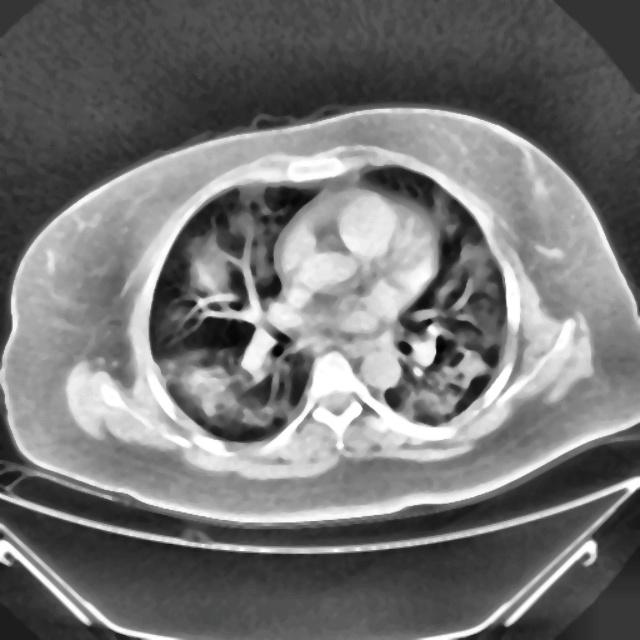covid: (2, 103, 638, 532)
